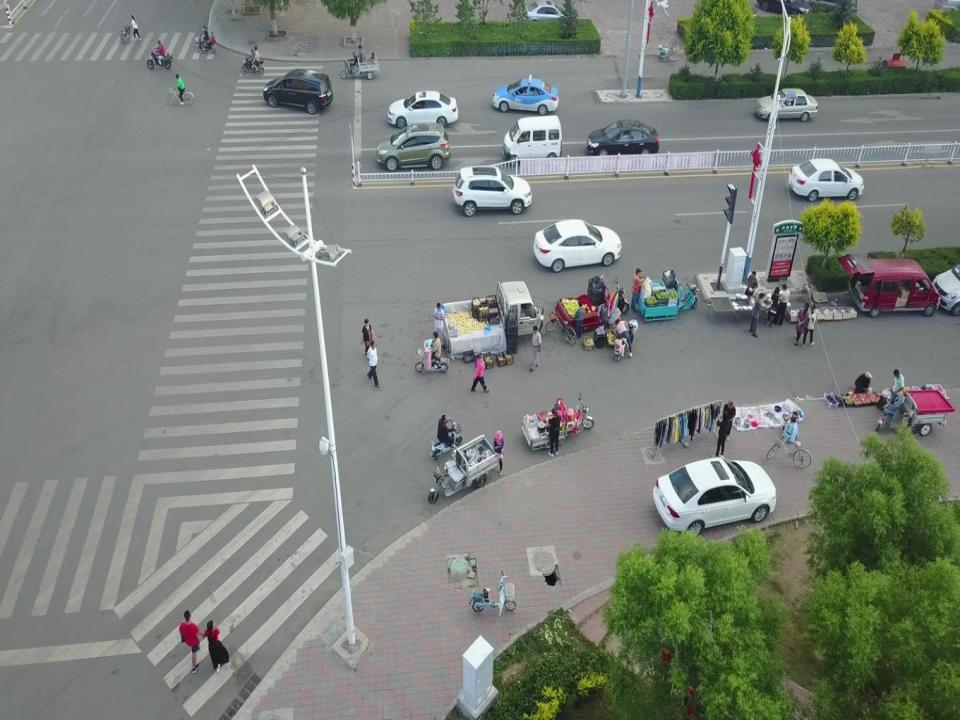car: (652, 456, 776, 536), (534, 218, 622, 271), (454, 165, 531, 214), (786, 156, 863, 202), (387, 89, 458, 128), (587, 122, 659, 158), (493, 75, 558, 114), (756, 88, 817, 122), (932, 261, 960, 315), (520, 0, 570, 24), (756, 0, 812, 13)
truck: (442, 279, 540, 354)
van: (848, 260, 940, 317), (376, 124, 450, 170), (264, 69, 333, 113), (503, 117, 561, 163)
